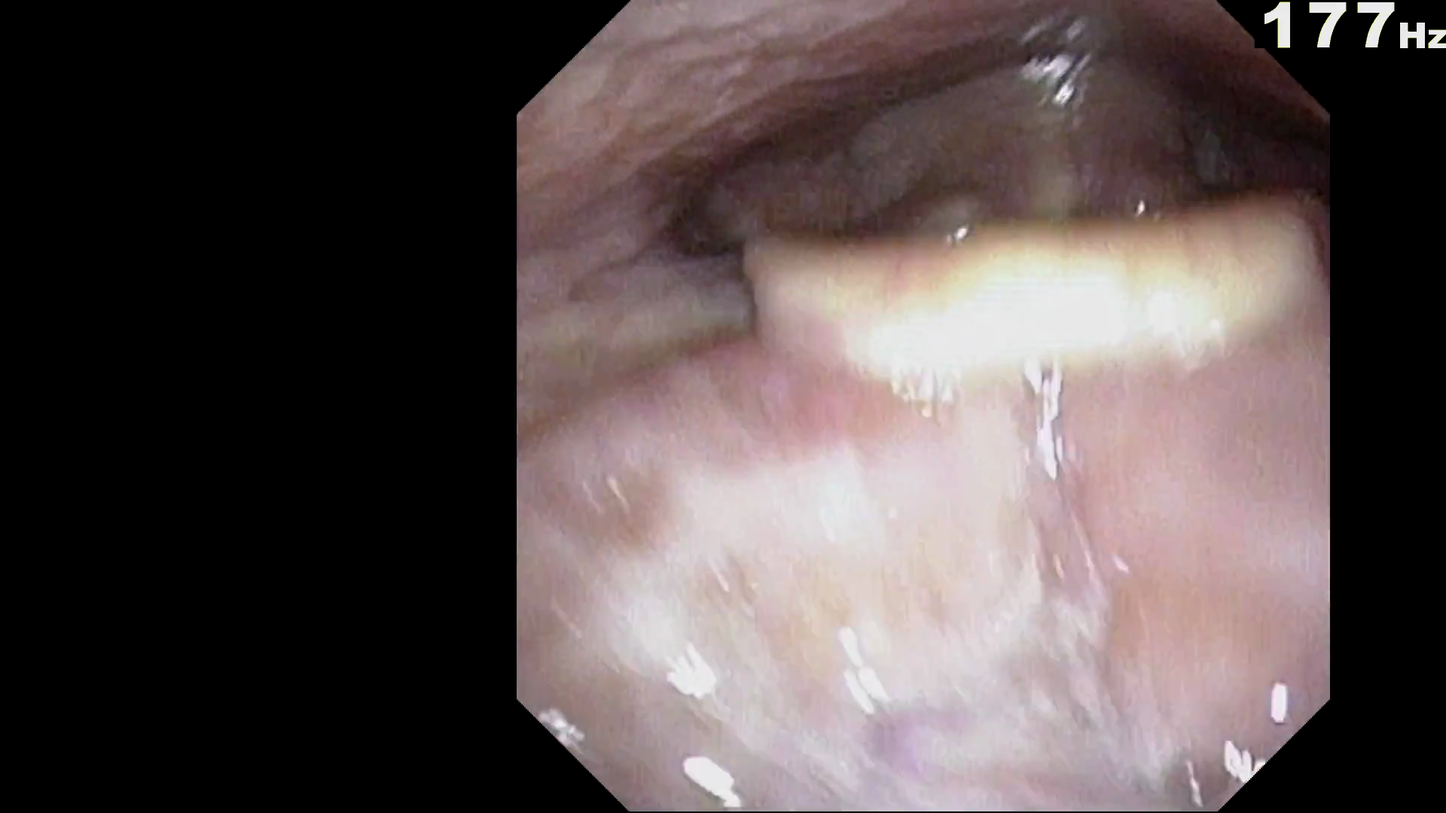epiglottis: (737, 210, 1313, 494)
trachea: (987, 149, 1134, 304)
